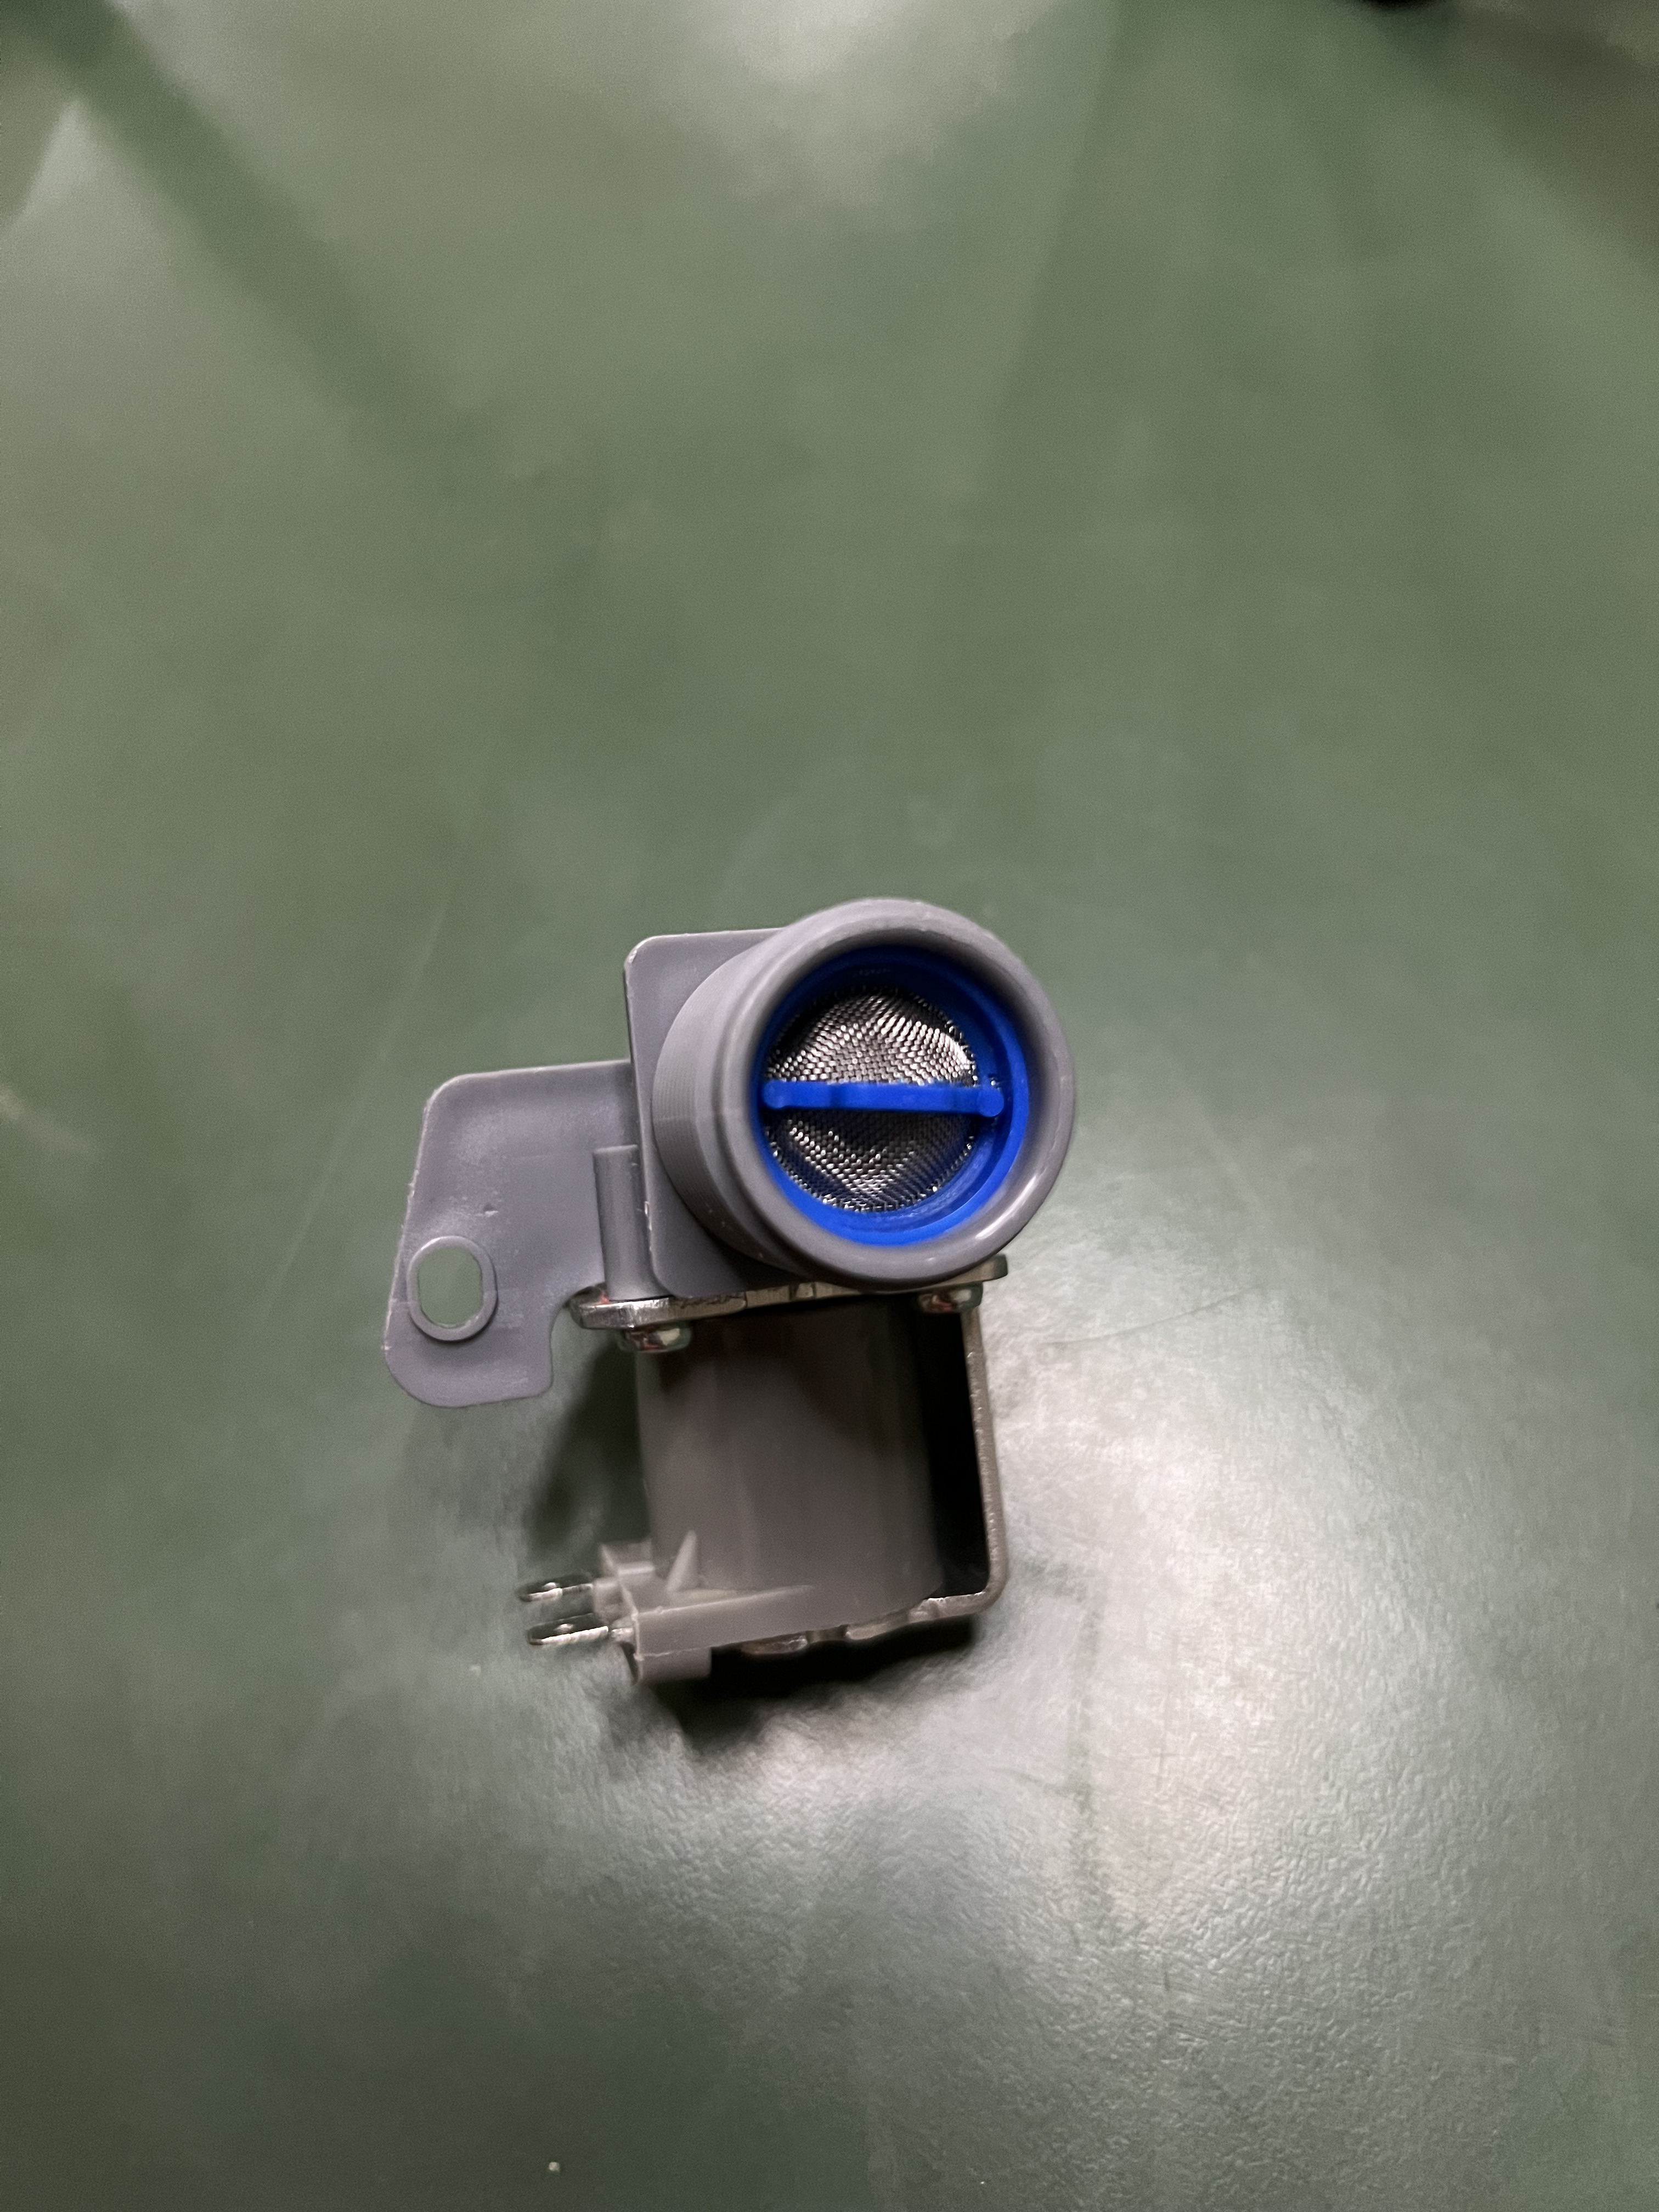inlet_valves: (338, 890, 1114, 1735)
